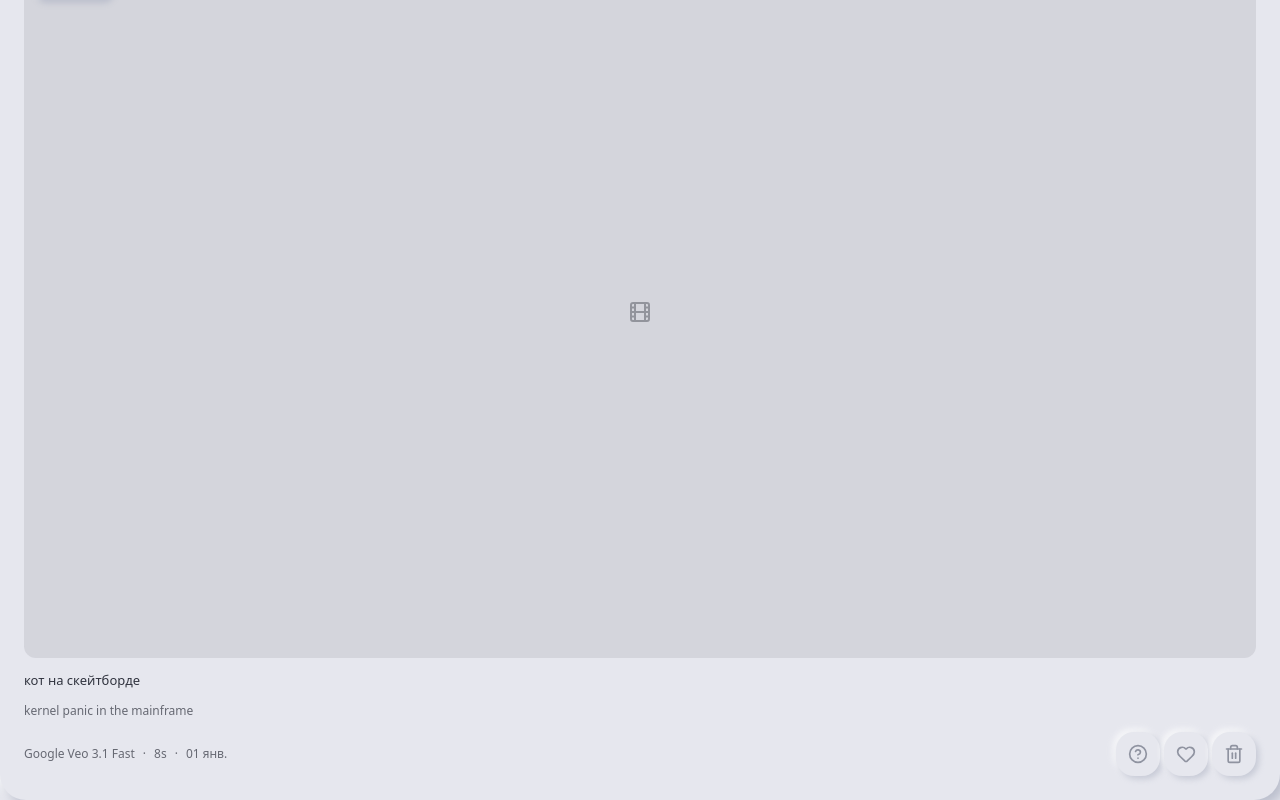
Test: GenerationCard failure explanation › admits it cannot explain a message it does not recognise
(page scrolled)
Click the button named "Почему произошла ошибка". click: (1138, 754)
box: [1116,732,1160,776]
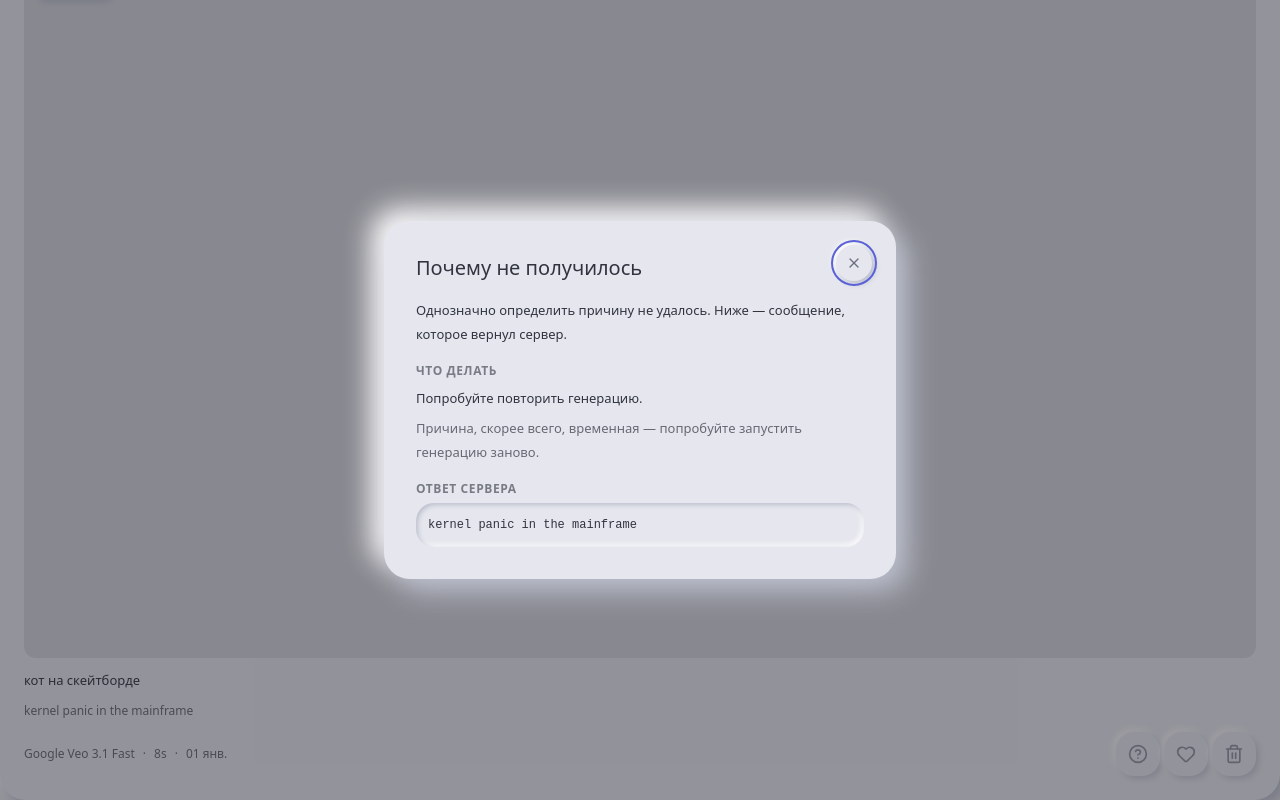
Expected: the text "определить причину не удалось" is shown, [416,301,845,343]
Expected: the text "kernel panic in the mainframe" is shown, [428,518,637,532]
